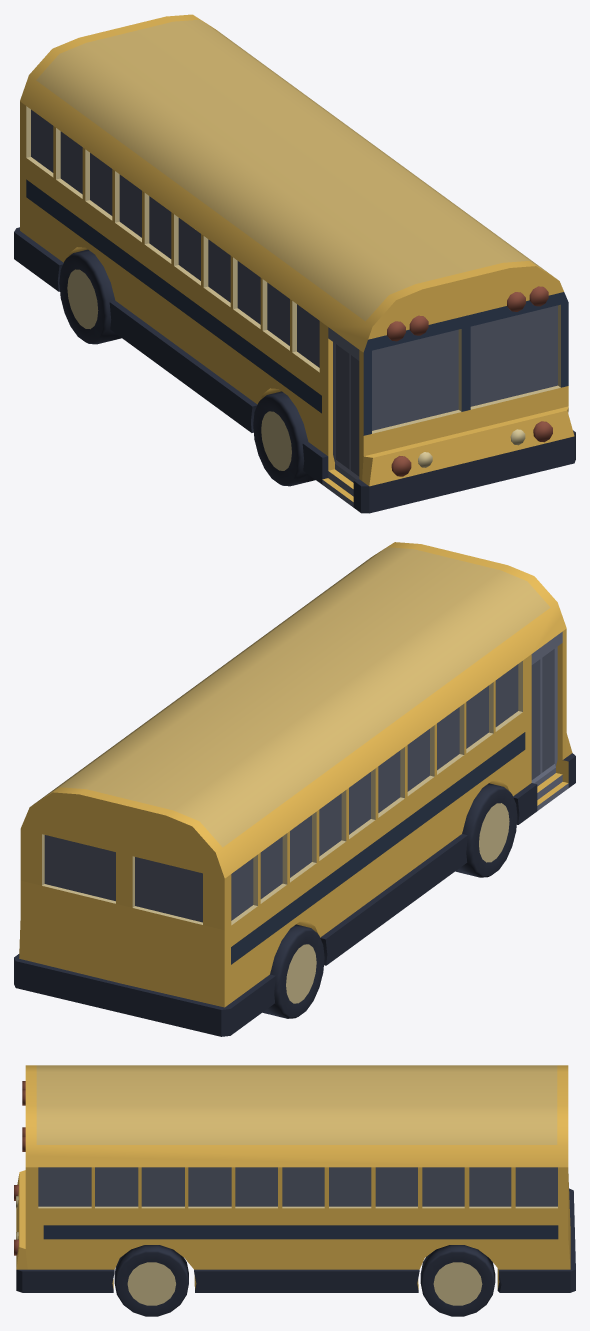
File: bus.FBX
3 renders of one model, top to bottom at view 1: azimuth 30°, elevation 25°; view 2: azimuth 150°, elevation 25°; view 3: azimuth 270°, elevation 25°, orthographic. The views are drawn at different scales.
Visible parts, largest first — view 1: bus001, wheel_2, wheel_1; view 2: bus001, wheel_1, wheel_2; view 3: bus001, wheel_3, wheel_4.
Part boxes in pixels (<box>): bus001: <box>14,14,575,513</box>; wheel_2: <box>59,249,121,344</box>; wheel_1: <box>253,391,315,486</box>; bus001: <box>14,542,575,1036</box>; wheel_1: <box>455,783,517,877</box>; wheel_2: <box>262,924,324,1018</box>; bus001: <box>14,1065,575,1292</box>; wheel_3: <box>420,1245,495,1316</box>; wheel_4: <box>114,1245,188,1316</box>.
Bounding box in the file's own units: 1000 × 1028 × 2805.
